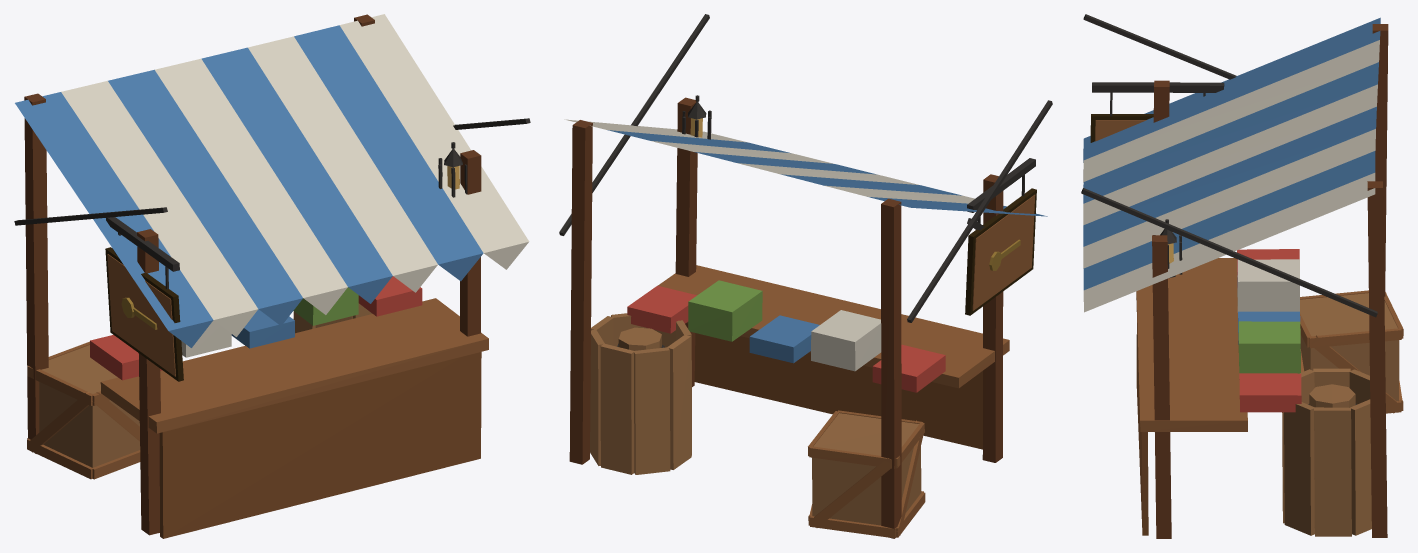
File: cloth-stall.glb
3 views of the same model, side by side, from view 1: azimuth 30°, elevation 25°; view 2: azimuth 150°, elevation 25°; view 3: azimuth 270°, elevation 25° (orthographic). The views are drawn at different scales.
Parts seen in each view (by area): view 1: props/cloth-stall; view 2: props/cloth-stall; view 3: props/cloth-stall.
Boxes of the visible parts, box(x1,y1,x2,y2) form: props/cloth-stall: box(14, 14, 530, 538); props/cloth-stall: box(559, 14, 1052, 538); props/cloth-stall: box(1081, 14, 1403, 538).
Bounding box in the file's own units: 2.75 × 2.53 × 2.08.
